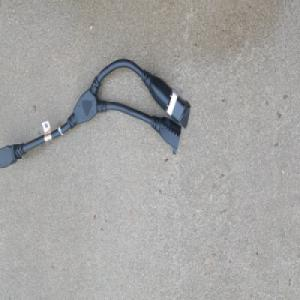Wire: (0, 58, 191, 173)
